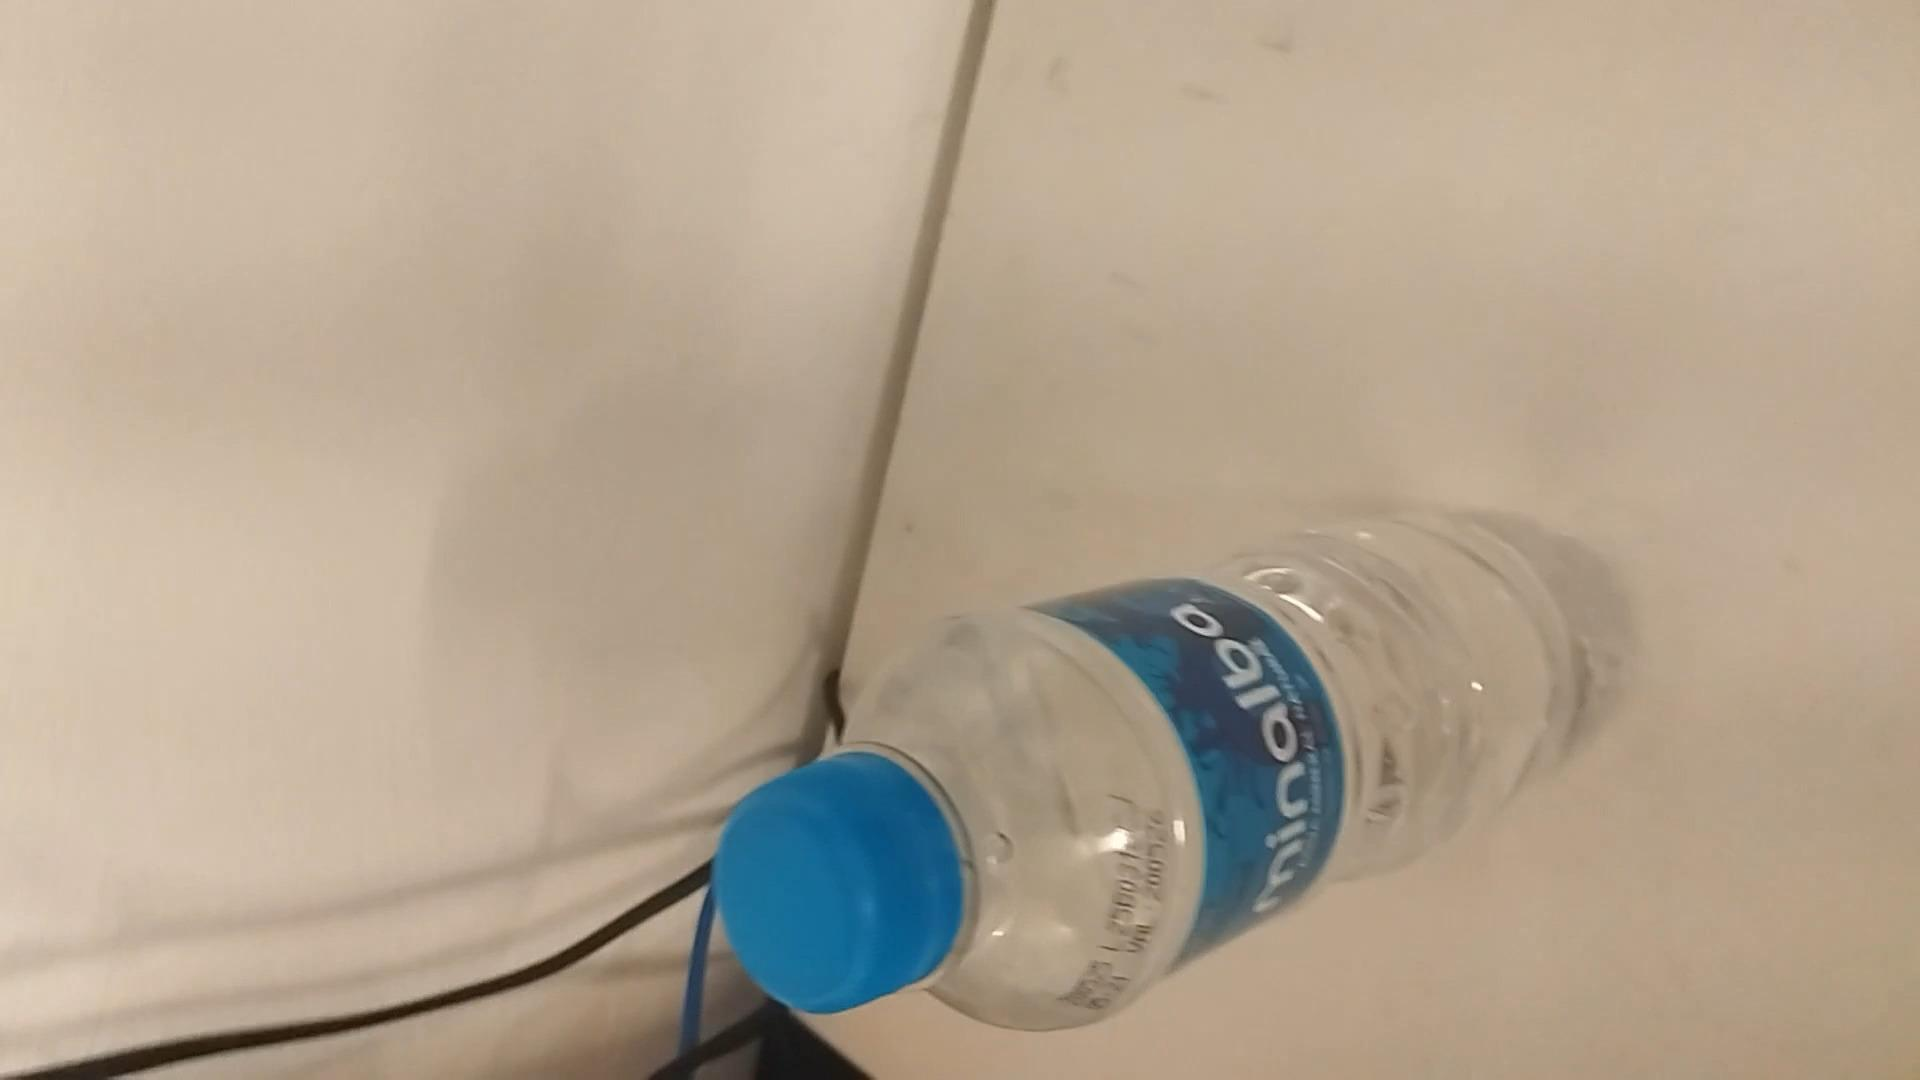agua: (720, 514, 1609, 1030)
